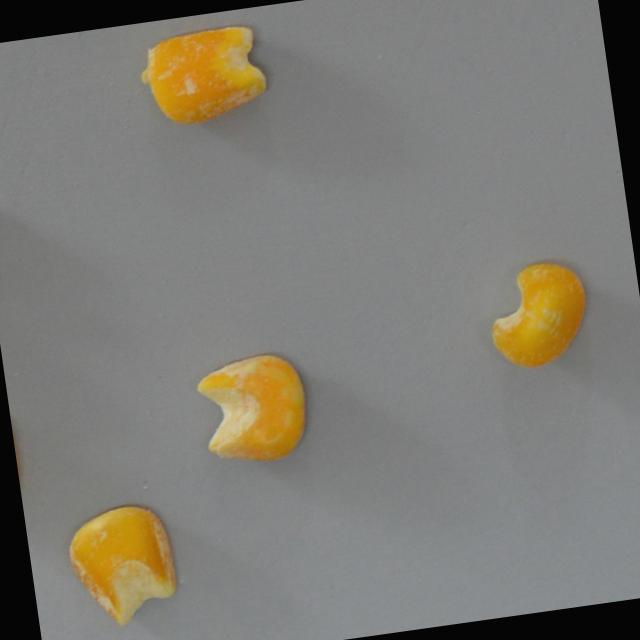pelicula: (63, 500, 181, 633), (193, 349, 313, 469), (141, 20, 270, 130), (482, 258, 594, 373)
